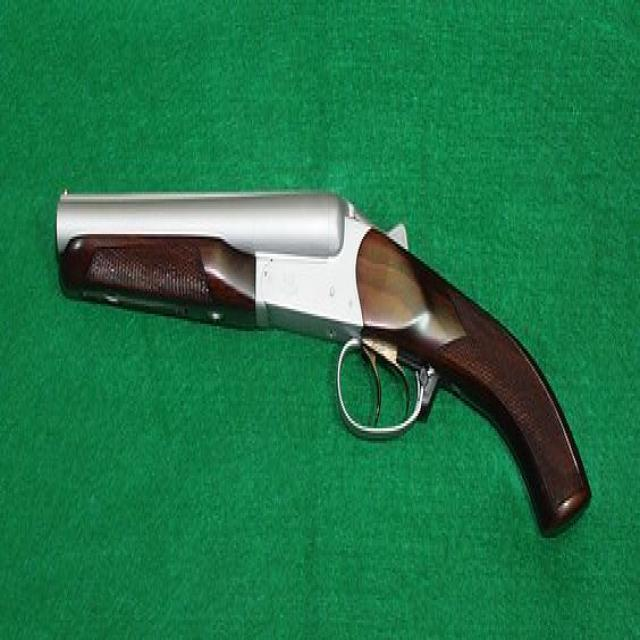shotgun: (39, 134, 596, 586)
